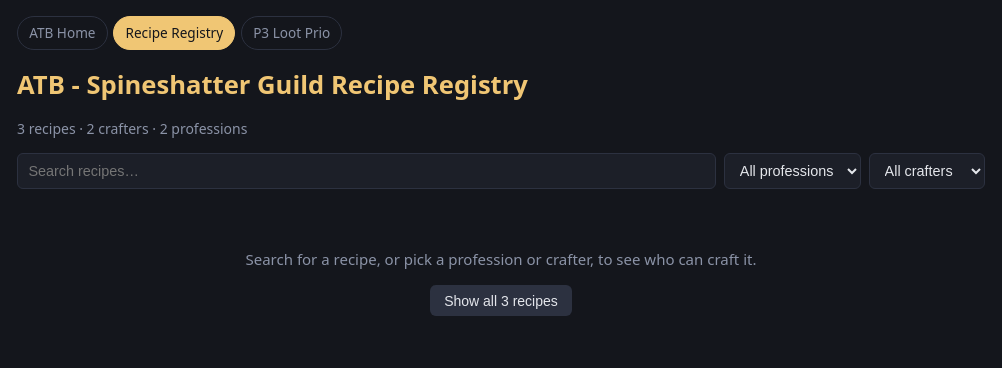
Scenario: App › renders no table until the list is narrowed
# A single letter is not enough — two is the threshold.
In the search field labelled "Search recipes": x=367, y=171 x1=17 y1=153 x2=716 y2=189, type "e"
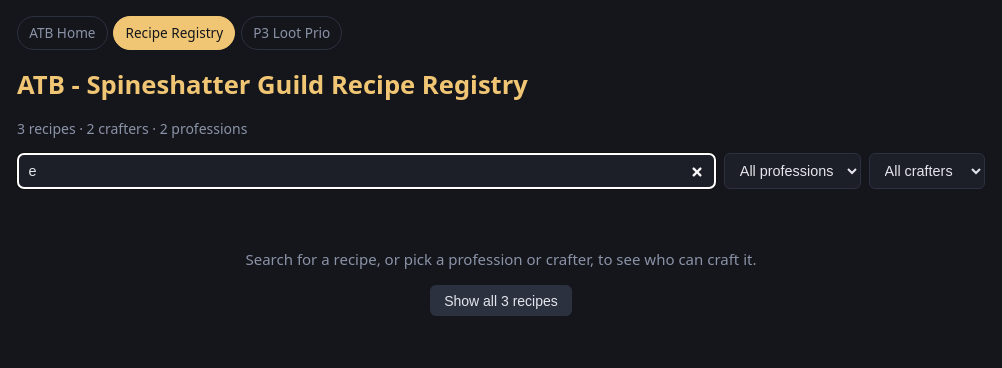
In the search field named "Search recipes": x=367, y=171 x1=17 y1=153 x2=716 y2=189, type "n"
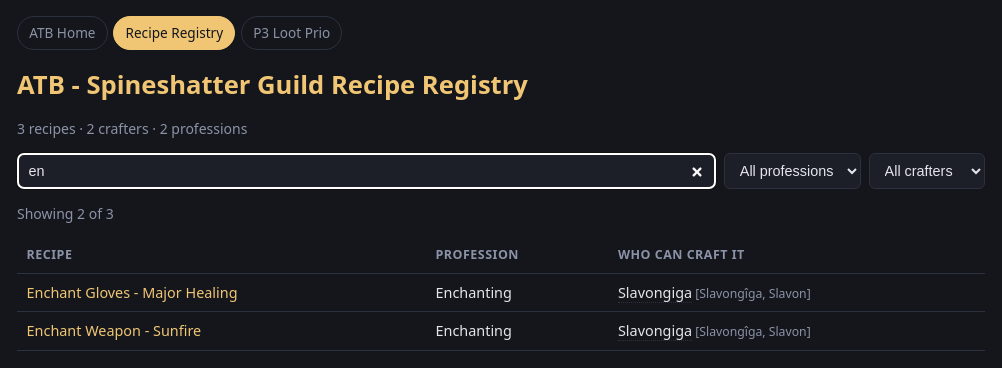
Expected: the table is shown, x1=17 y1=238 x2=985 y2=351
